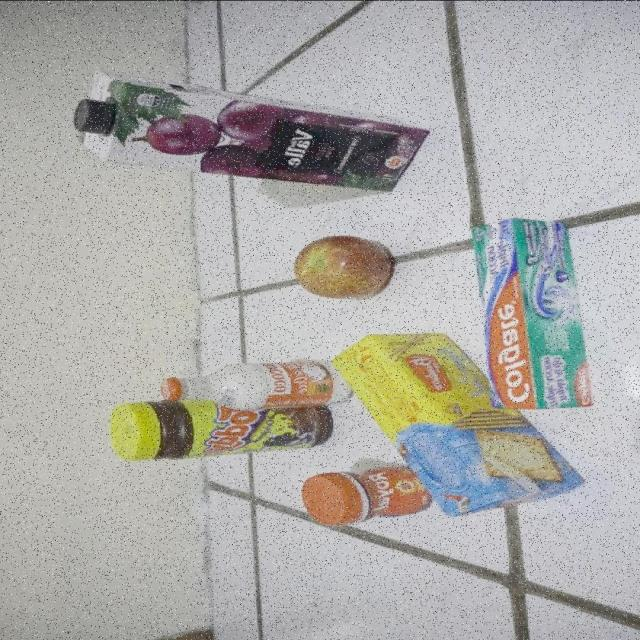Apple: (293, 235, 390, 300)
ChocolatePowder: (109, 400, 334, 462)
CoconutMilk: (157, 359, 356, 411)
Cracker: (331, 332, 586, 518)
Toothpaste: (470, 217, 595, 411)
Yeast: (299, 466, 431, 526)
